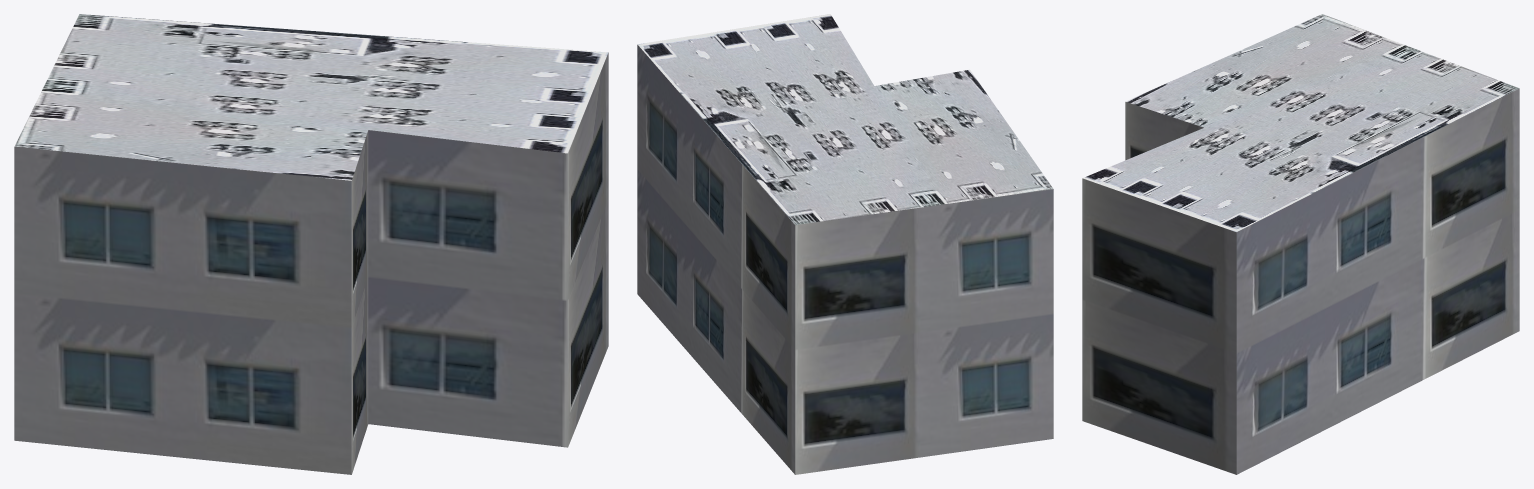
Rendered from ResTex__1674.fbx.
3 views of the same model, side by side, from view 1: azimuth 30°, elevation 25°; view 2: azimuth 150°, elevation 25°; view 3: azimuth 270°, elevation 25° (orthographic). The views are drawn at different scales.
Visible parts, largest first — view 1: CityEngineMaterial_10_m, CityEngineMaterial_2_m; view 2: CityEngineMaterial_10_m, CityEngineMaterial_2_m; view 3: CityEngineMaterial_10_m, CityEngineMaterial_2_m.
Boxes of the visible parts, <box> form: CityEngineMaterial_10_m: <box>14,52,608,474</box>; CityEngineMaterial_2_m: <box>14,14,608,180</box>; CityEngineMaterial_10_m: <box>637,45,1053,474</box>; CityEngineMaterial_2_m: <box>637,14,1053,224</box>; CityEngineMaterial_10_m: <box>1082,88,1519,474</box>; CityEngineMaterial_2_m: <box>1082,14,1519,231</box>.
Bounding box in the file's own units: 11.57 × 6 × 9.8.
Materials: 2 (2 with a texture image).
